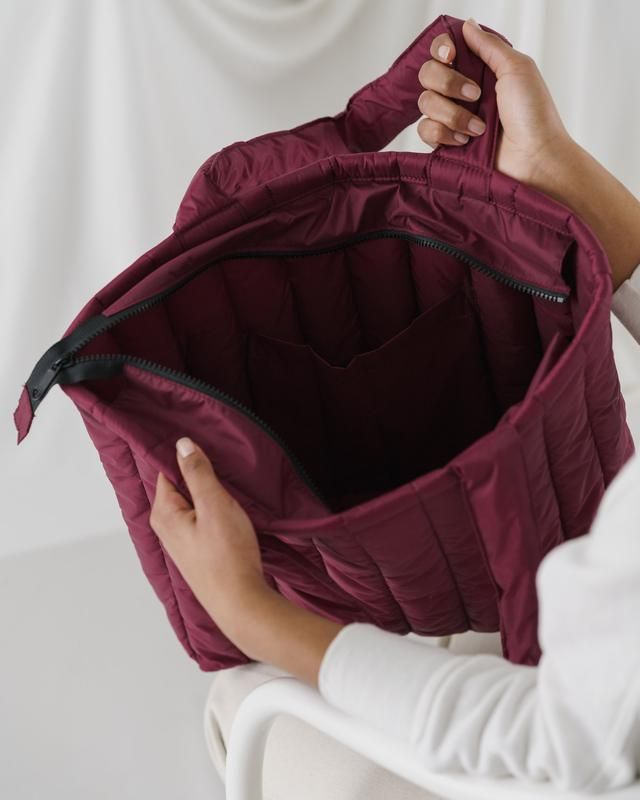nylon: (13, 14, 634, 674)
